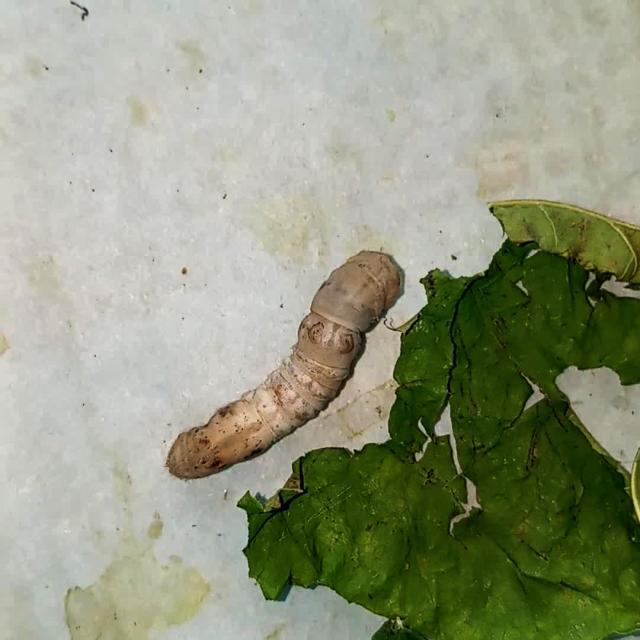Grasserie: (122, 230, 413, 493)
